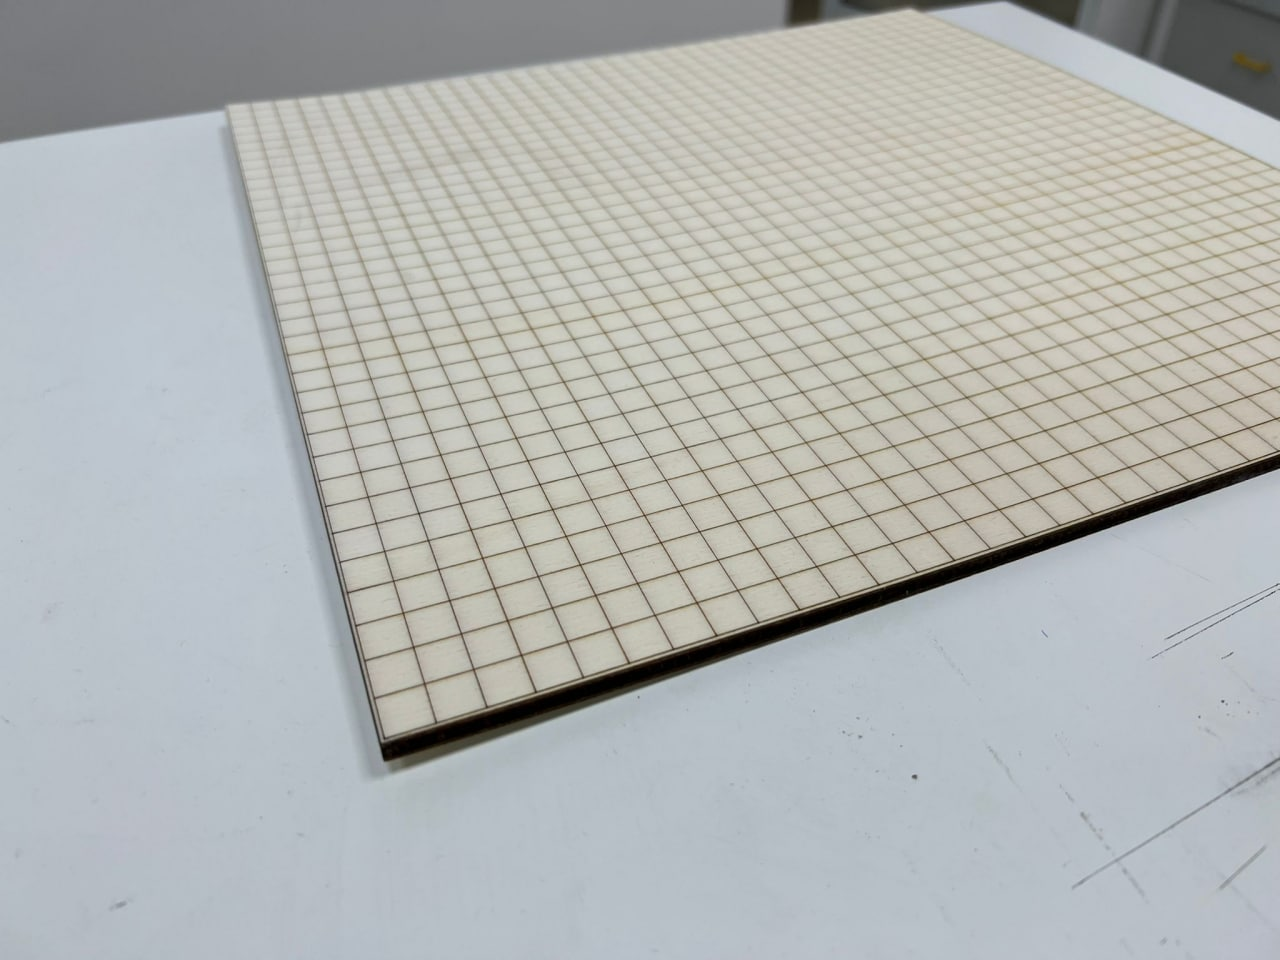grid: (208, 4, 1280, 774)
